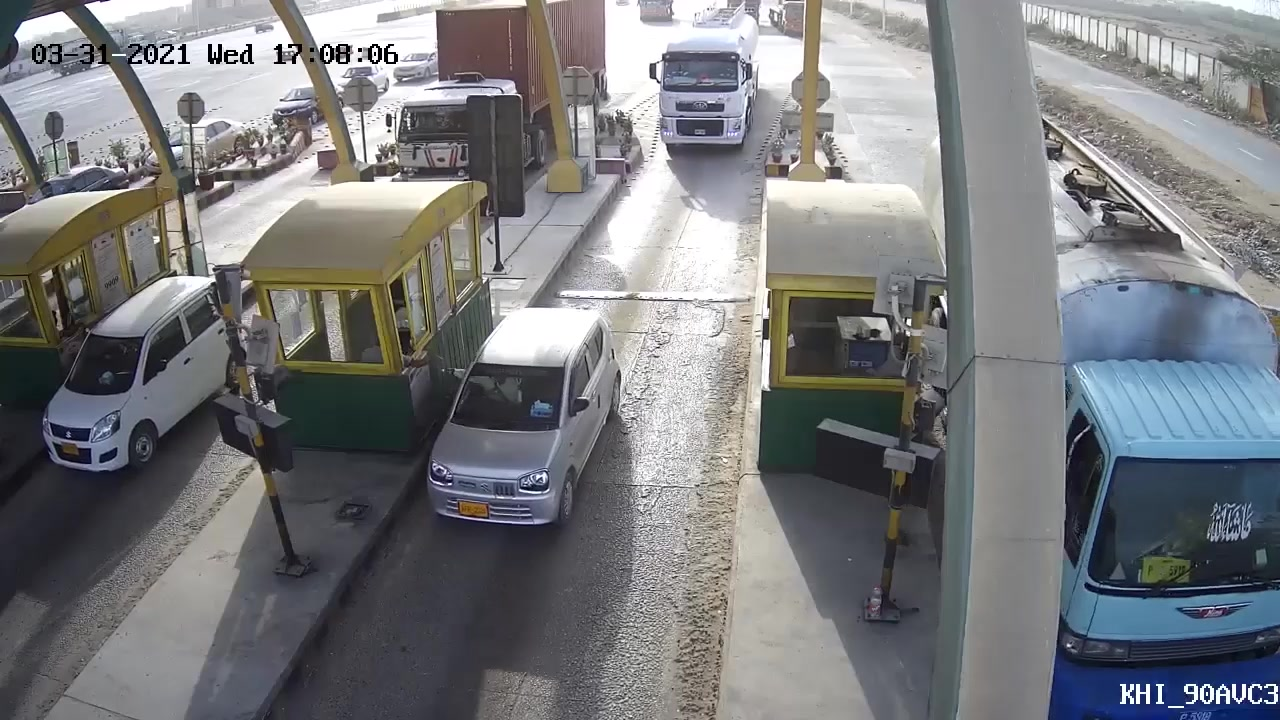F1: (417, 303, 633, 547)
F6: (655, 2, 767, 157)
